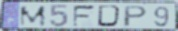5: (49, 4, 69, 29)
9: (153, 6, 170, 28)
D: (97, 5, 125, 29)
F: (72, 5, 98, 29)
M: (19, 5, 48, 27)
P: (123, 5, 150, 29)
